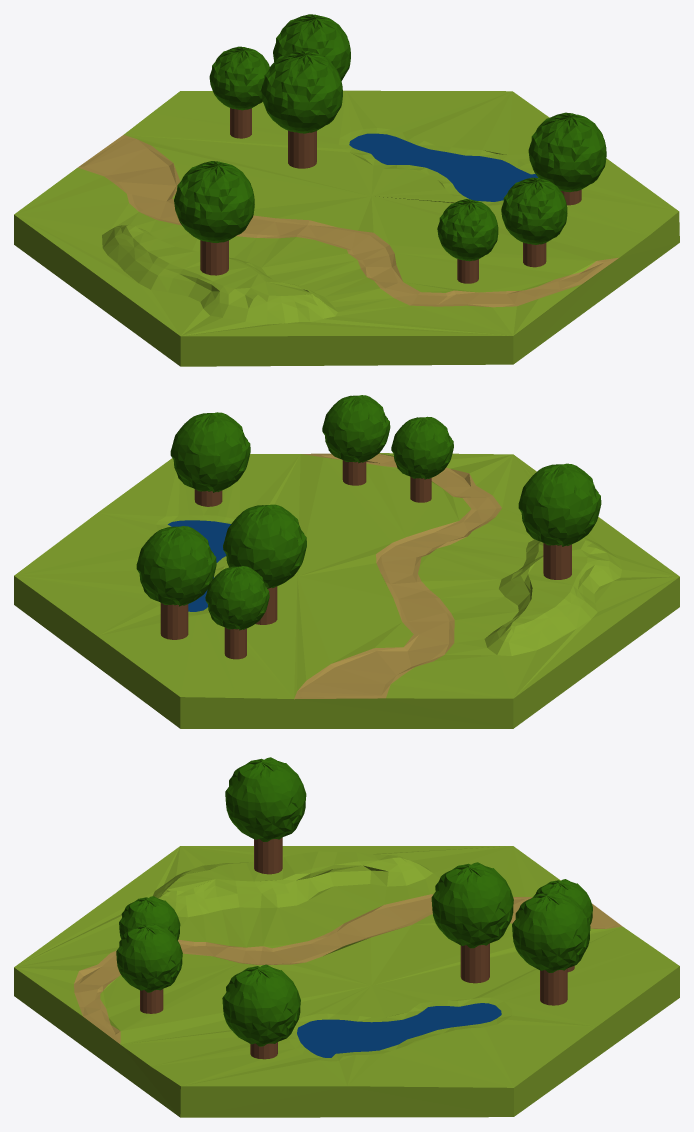
File: wool.dae
3 renders of one model, top to bottom at view 1: azimuth 30°, elevation 25°; view 2: azimuth 150°, elevation 25°; view 3: azimuth 270°, elevation 25°, orthographic.
Parts seen in each view (by area): view 1: Cylinder, Sphere, Sphere_002, Sphere_005, Sphere_004, Sphere_003, Sphere_006, Sphere_001, Cylinder_001, Cylinder_003, Cylinder_006, Cylinder_005; view 2: Cylinder, Sphere_002, Sphere, Sphere_005, Sphere_001, Sphere_004, Sphere_006, Sphere_003, Cylinder_003, Cylinder_002, Cylinder_006, Cylinder_005 (+1 smaller); view 3: Cylinder, Sphere, Sphere_002, Sphere_005, Sphere_001, Sphere_004, Sphere_003, Cylinder_001, Cylinder_003, Cylinder_002, Sphere_006, Cylinder_005.
Part boxes in pixels (left/top/right/bottom): Cylinder: left=14, top=90, right=679, bottom=366; Sphere: left=261, top=50, right=342, bottom=133; Sphere_002: left=174, top=161, right=254, bottom=242; Sphere_005: left=528, top=112, right=606, bottom=192; Sphere_004: left=501, top=177, right=567, bottom=244; Sphere_003: left=437, top=199, right=498, bottom=261; Sphere_006: left=209, top=46, right=269, bottom=110; Sphere_001: left=273, top=14, right=350, bottom=80; Cylinder_001: left=288, top=130, right=316, bottom=168; Cylinder_003: left=200, top=240, right=228, bottom=275; Cylinder_006: left=230, top=108, right=251, bottom=138; Cylinder_005: left=523, top=242, right=546, bottom=267; Cylinder: left=14, top=453, right=679, bottom=728; Sphere_002: left=518, top=463, right=601, bottom=546; Sphere: left=223, top=504, right=306, bottom=588; Sphere_005: left=170, top=412, right=250, bottom=492; Sphere_001: left=136, top=526, right=216, bottom=606; Sphere_004: left=322, top=395, right=390, bottom=463; Sphere_006: left=205, top=566, right=269, bottom=630; Sphere_003: left=391, top=416, right=453, bottom=479; Cylinder_003: left=543, top=543, right=571, bottom=579; Cylinder_002: left=160, top=603, right=188, bottom=639; Cylinder_006: left=224, top=627, right=246, bottom=659; Cylinder_005: left=342, top=460, right=366, bottom=485; Cylinder: left=14, top=846, right=679, bottom=1117; Sphere: left=431, top=862, right=513, bottom=948; Sphere_002: left=225, top=757, right=306, bottom=841; Sphere_005: left=222, top=964, right=300, bottom=1046; Sphere_001: left=512, top=891, right=590, bottom=972; Sphere_004: left=116, top=923, right=182, bottom=992; Sphere_003: left=119, top=896, right=180, bottom=940; Cylinder_001: left=460, top=943, right=489, bottom=983; Cylinder_003: left=254, top=837, right=282, bottom=874; Cylinder_002: left=540, top=968, right=567, bottom=1005; Sphere_006: left=533, top=879, right=592, bottom=924; Cylinder_005: left=140, top=989, right=163, bottom=1013.
Bounding box in the file's own units: 1.73 × 2 × 0.5054.
